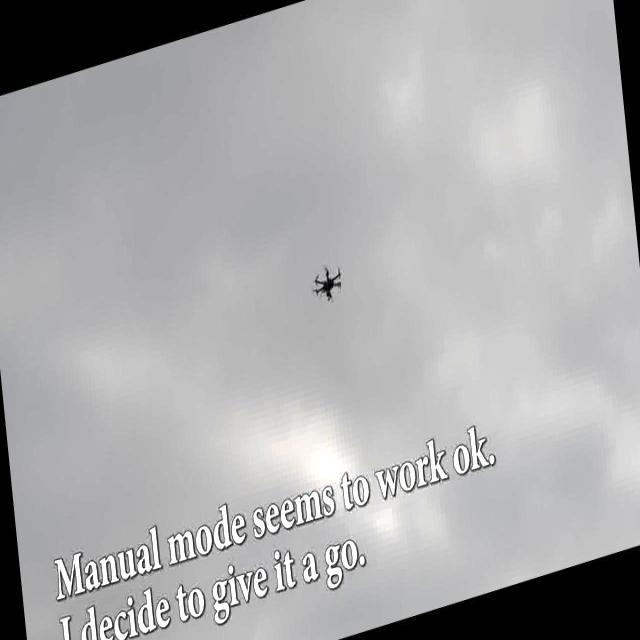drone: (307, 256, 347, 308)
